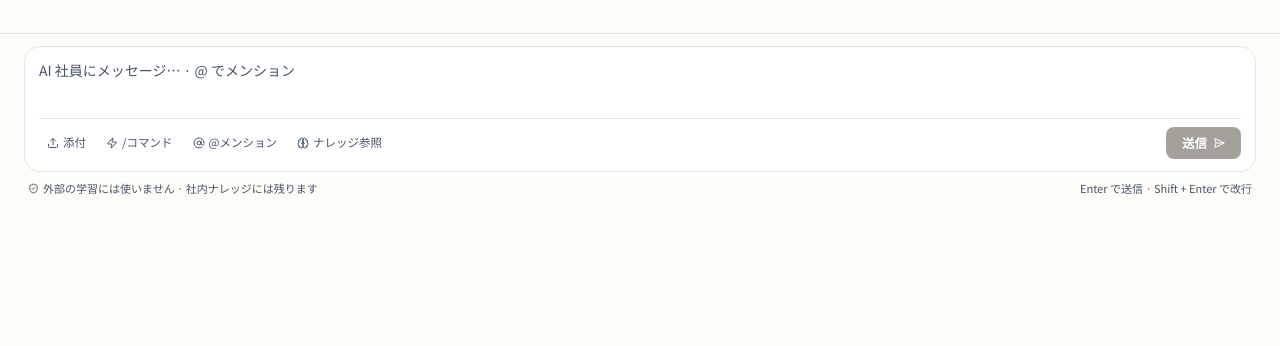
Test: S-E01 メッセージフィードバック (GAP-031 ① 役立った) › ストリーミング中の楽観行 (ローカル ID) にはアクション行を出さない
Type "q" into the text box named "メッセージを入力" at x=640, y=82, box [39, 59, 1241, 104]
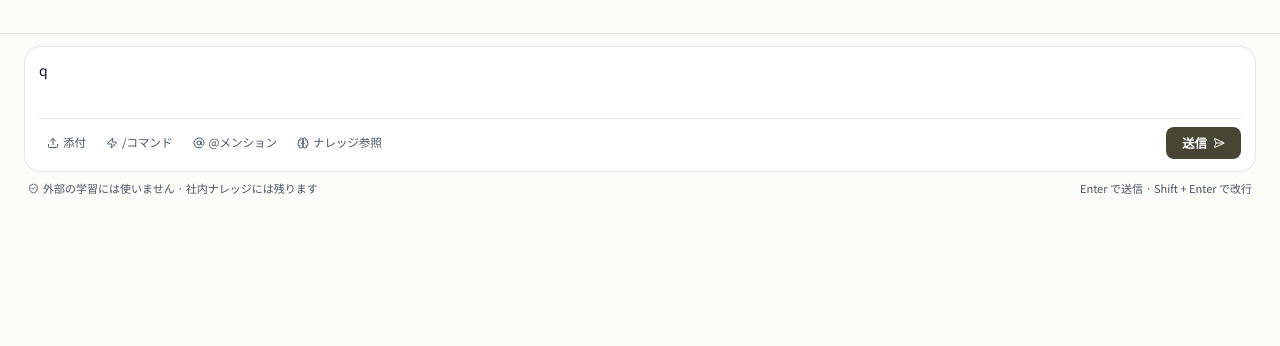
Click the button "送信" at x=1204, y=143, box [1166, 126, 1241, 159]
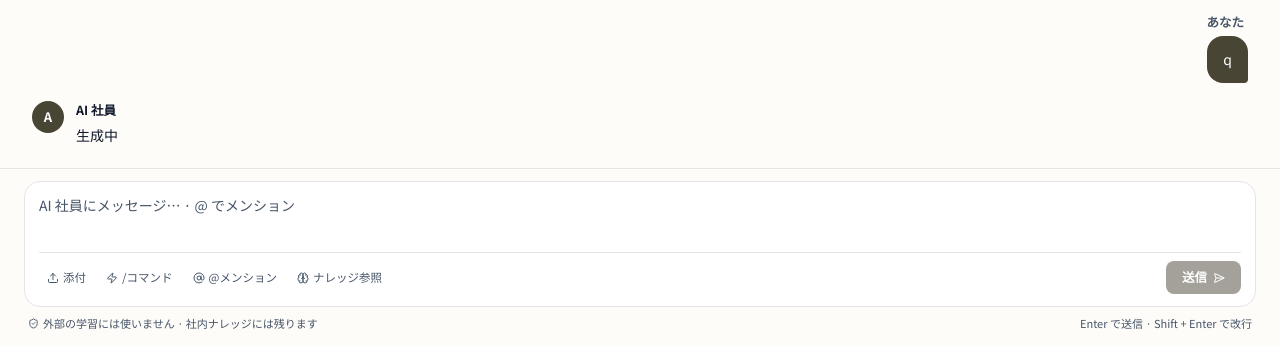
Result: the text "生成中" is shown at [76, 125, 118, 145]
